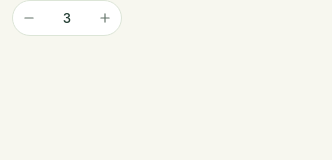
it: empty edits restore the saved value without creating a zero limit
Clear the number field named "Search requests" at (67, 18), box [45, 4, 89, 32]
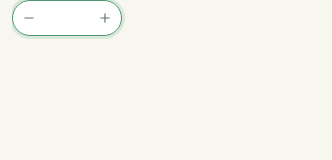
Press Tab
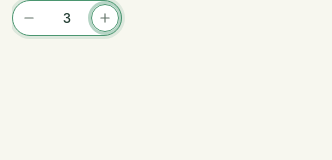
Result: the number field named "Search requests" holds "3" at [45, 4, 89, 32]
Click the button named "Increase search requests" at (105, 18), box [91, 4, 119, 32]
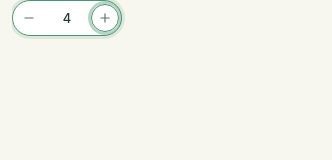
Result: the number field named "Search requests" holds "4" at [45, 4, 89, 32]
